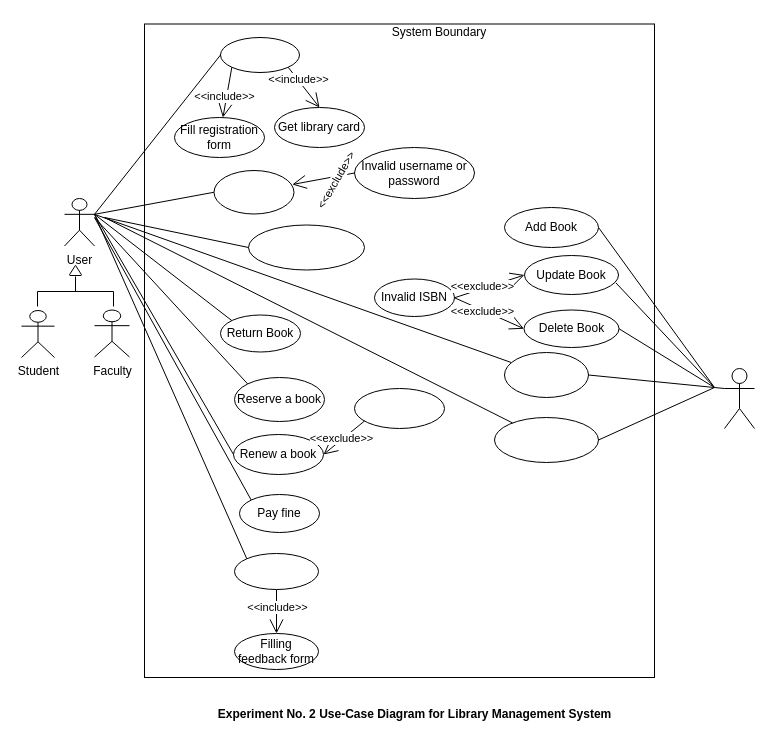
Some shapes in this 780 by 744 pixel diagram are drawn without their labels. Each missing label, with the box of its shape:
Authenticate: (213, 170, 294, 214)
Feedback: (234, 552, 318, 590)
invalid Renewal: (354, 388, 444, 428)
Librarian: (724, 368, 754, 428)
Register: (220, 36, 300, 72)
Request to issue a new book: (248, 224, 364, 270)
Search Book: (504, 352, 588, 398)
View Book Details: (494, 416, 598, 462)
